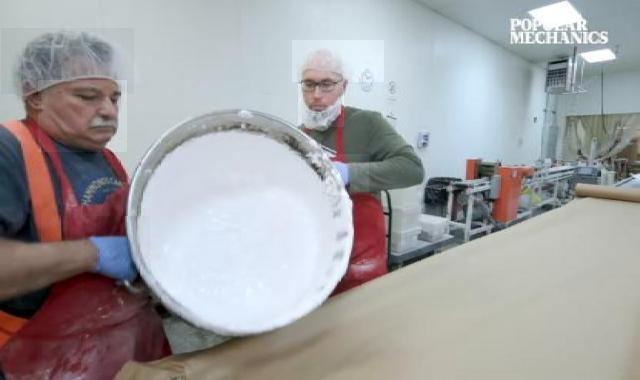apron: (84, 216, 150, 292), (327, 154, 370, 195)
gloves: (1, 28, 134, 94), (292, 40, 384, 82)
no_hairnet: (38, 80, 127, 152), (298, 83, 344, 128)
